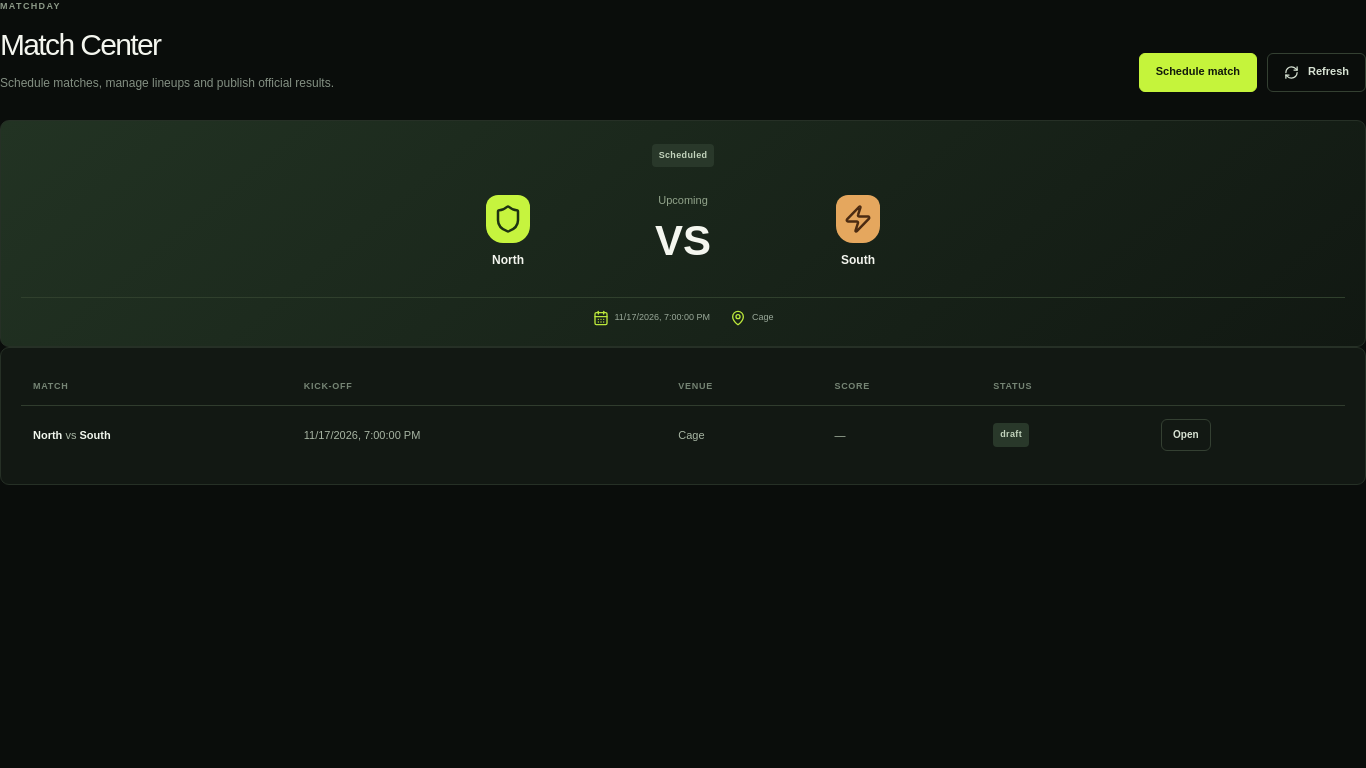
it: Live fixtures and scheduling › keeps lineup editing on the approved correction source and exposes only result-entry controls on its child revision
The width and height of the screenshot is (1366, 768).
Click the button "Open" at (1186, 435), box [1161,419,1211,451]
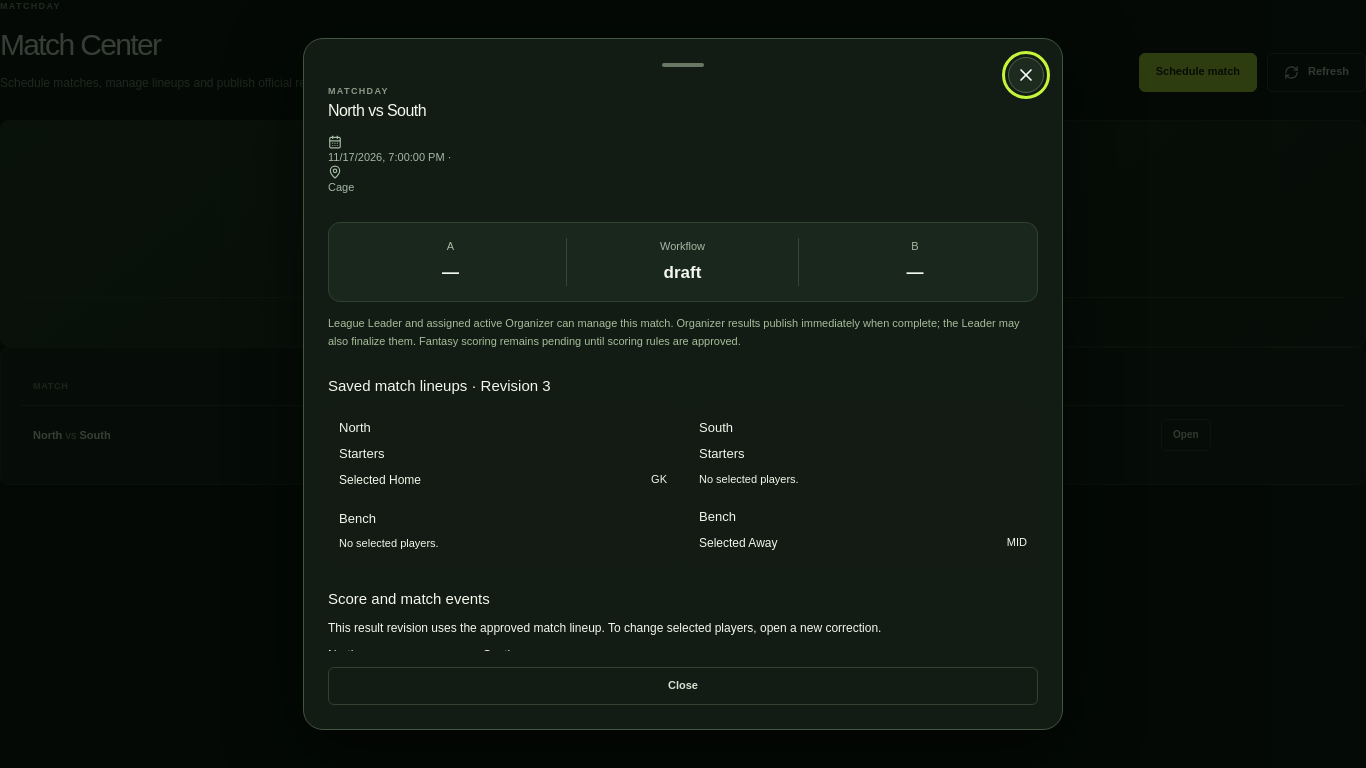
Result: the text "This result revision uses the approved match lineup. To change selected players, open a new correction." is shown at [328,621,881,635]
Result: the heading "Score and match events" is shown at [328,590,490,607]
